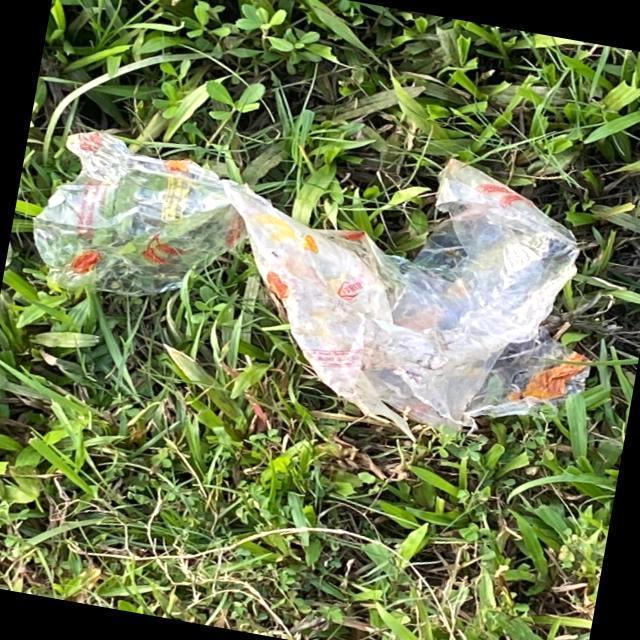polythene: (20, 94, 628, 455)
